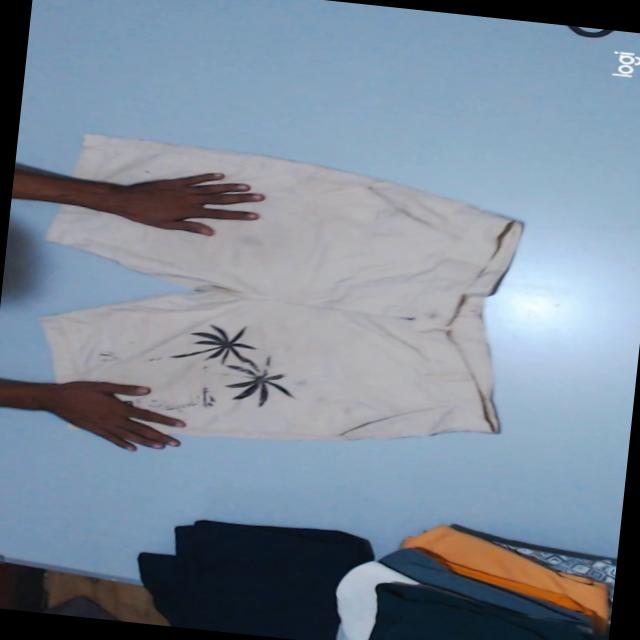new-garment: (40, 134, 521, 440)
